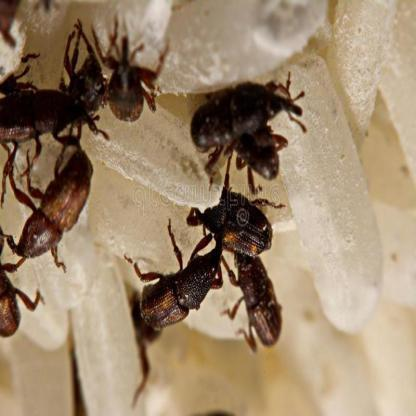rice-bug: (191, 79, 301, 175), (0, 48, 102, 145), (20, 154, 101, 258), (192, 184, 294, 254), (140, 260, 218, 332), (108, 35, 163, 125), (237, 258, 290, 348), (0, 249, 20, 341)
